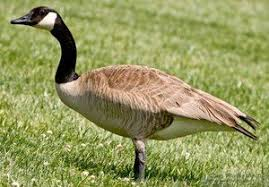goose: (10, 5, 261, 177)
